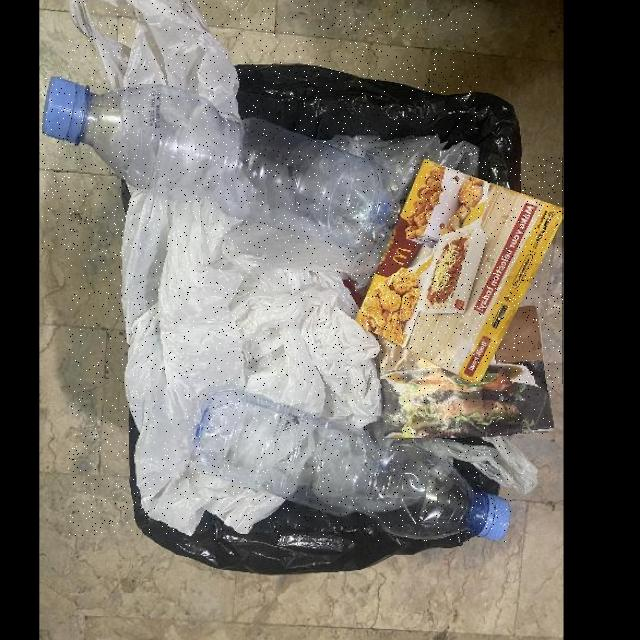paper: (352, 157, 563, 383), (377, 305, 555, 437)
plastic: (68, 0, 479, 535), (43, 76, 401, 250), (189, 388, 512, 541)
